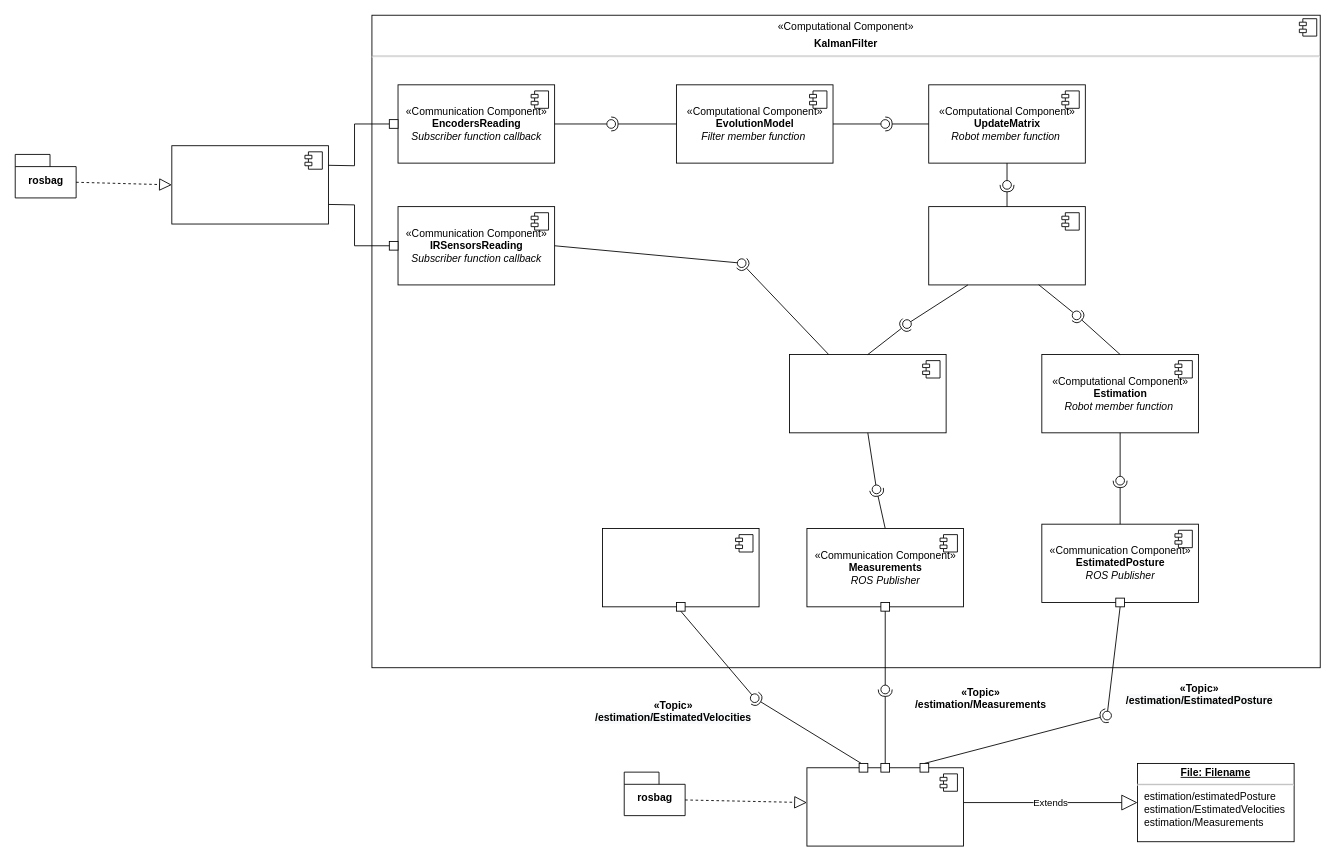
The diagram is 1335 pixels wide and 861 high, and some of its shapes have lost their labels. Here are the shapes that lost their labels. From the top down, the centre of each, then its label:
At point 249,184: "«Communication Component» play".
At point 1006,245: "«Computational Component» Propagation Robot member function".
At point 867,393: "«Computational Component» EvaluateMeasumerents Robot member function".
At point 680,567: "«Communication Component» EstimatedInput ROS Publisher".
At point 885,806: "«Communication Component» record".
